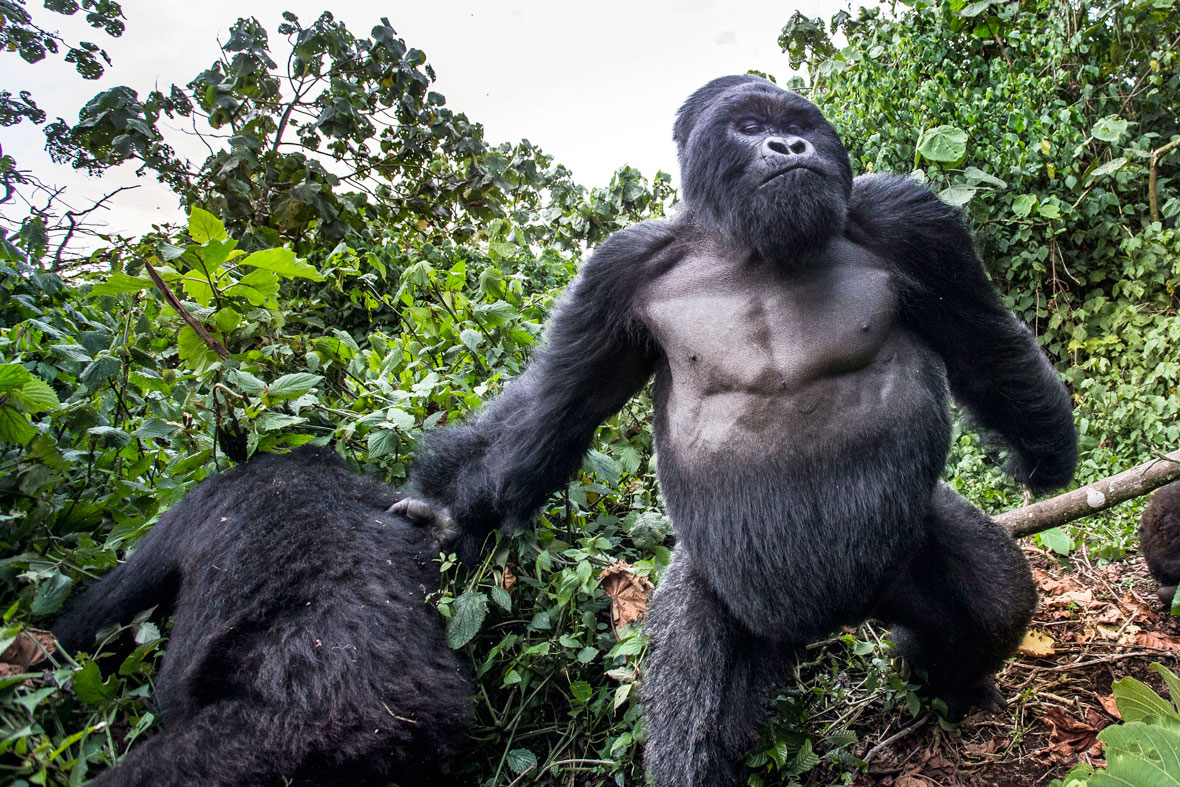Goriila: (477, 37, 1097, 754)
